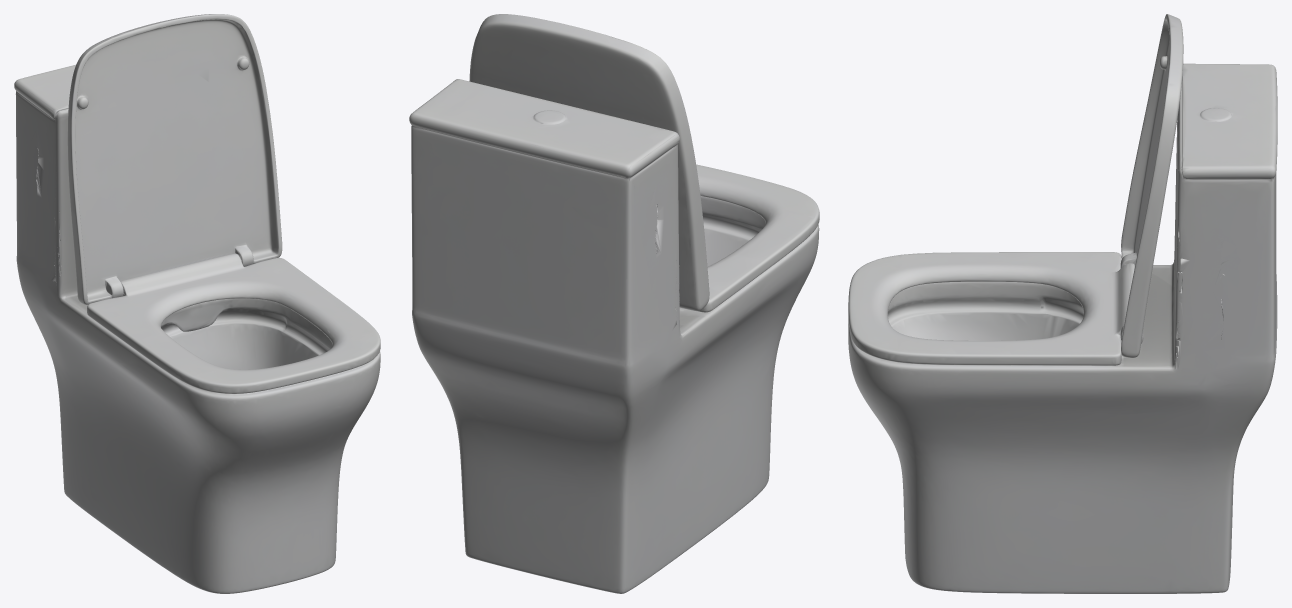
File: Toilet.glb
3 renders of one model, left to right at view 1: azimuth 30°, elevation 25°; view 2: azimuth 150°, elevation 25°; view 3: azimuth 270°, elevation 25°, orthographic. The views are drawn at different scales.
Visible parts, largest first — view 1: node_0; view 2: node_0; view 3: node_0.
Boxes of the visible parts, <box> form: node_0: <box>14,14,380,593</box>; node_0: <box>409,14,819,593</box>; node_0: <box>848,14,1277,593</box>.
Size of the model in its own units: 0.4505 by 1.01 by 0.764.
1 material, 1 textured.
